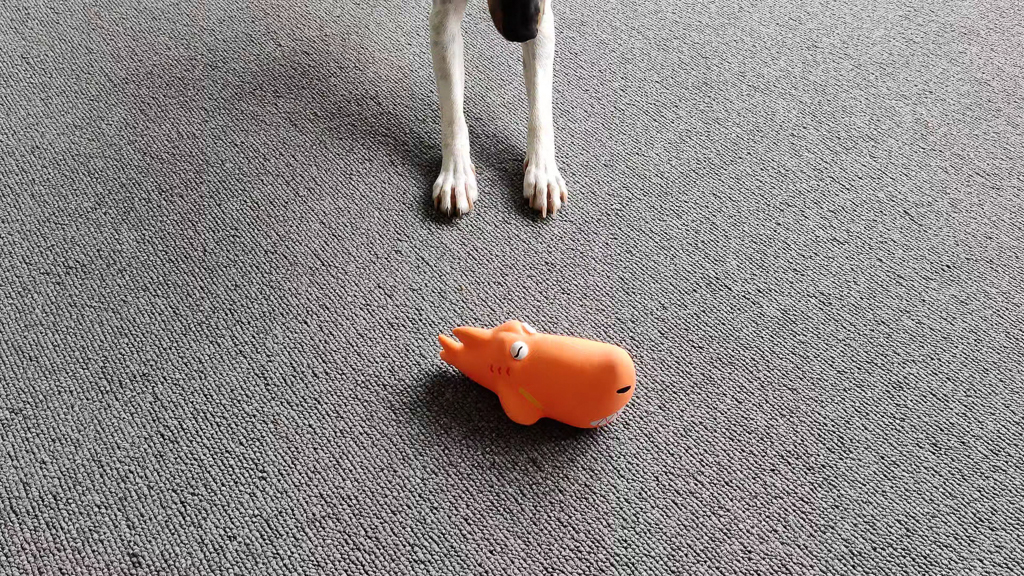Dog: (400, 0, 604, 237)
